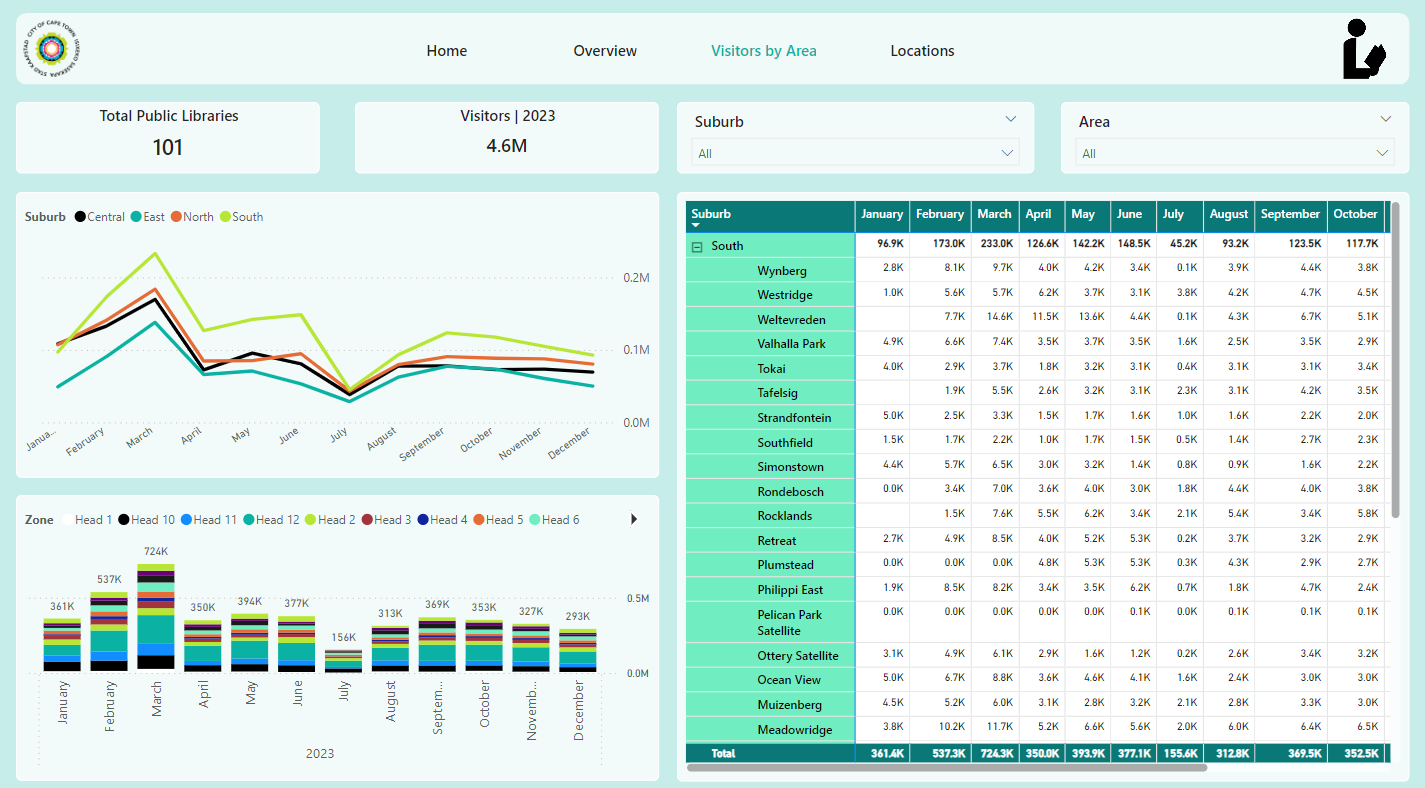

The page's visual inventory and layout, read from the dashboard file:
{"tool":"powerbi","page":{"name":"Visitors by Area","canvas":[1280,720],"ordinal":2},"visuals":[{"type":"group","id":"g1","title":"Group 1","box":[16,16,1248,64],"z":0},{"type":"shape","box":[16,16,1248,64],"z":0,"group":"g1"},{"type":"image","box":[16,16,64,64],"z":1000,"group":"g1"},{"type":"columnChart","fields":{"Y":["Sum(Table1.Value)"],"Category":["Table1.Attribute.Variation.Date Hierarchy.Year","Table1.Attribute.Variation.Date Hierarchy.Month"],"Series":["Table1.Zone"]},"box":[16,448,576,256],"z":1000},{"type":"image","box":[1200,16,48,64],"z":2000,"group":"g1"},{"type":"card","title":"Total Public Libraries","fields":{"Values":["CountNonNull(Library.Total)"]},"box":[16,96,272,64],"z":2000},{"type":"lineChart","fields":{"Y":["Sum(Table1.Value)"],"Category":["Table1.Attribute.Variation.Date Hierarchy.Year","Table1.Attribute.Variation.Date Hierarchy.Quarter","Table1.Attribute.Variation.Date Hierarchy.Month","Table1.Attribute.Variation.Date Hierarchy.Day"],"Series":["Table1.Suburb"]},"box":[16,176,576,256],"z":3000},{"type":"card","title":"Visitors | 2023","fields":{"Values":["Sum(Library.Total)"]},"box":[320,96,272,64],"z":4000},{"type":"pageNavigator","box":[336,32,560,32],"z":4001,"group":"g1"},{"type":"slicer","title":"Visitors | 2023","fields":{"Values":["Library.Suburb"]},"box":[608,96,320,64],"z":5000},{"type":"slicer","title":"Visitors | 2023","fields":{"Values":["Library.AREA"]},"box":[952,96,312,64],"z":6000},{"type":"pivotTable","fields":{"Rows":["Table1.Suburb","Table1.AREA"],"Columns":["Table1.Attribute.Variation.Date Hierarchy.Quarter","Table1.Attribute.Variation.Date Hierarchy.Month"],"Values":["Sum(Table1.Value)"]},"box":[608,176,656,528],"z":7000}]}

Visuals, with their boxes in screenshot pixels (x1, y1, x2, y2), scaled from the page's 1280x720 canvas onto the 1425x788 screenshot:
"Group 1" group: 18/18/1407/88
shape: 18/18/1407/88
image: 18/18/89/88
columnChart - Sum(Table1.Value) x Table1.Attribute.Variation.Date Hierarchy.Year: 18/490/659/770
image: 1336/18/1389/88
"Total Public Libraries" card: 18/105/321/175
lineChart - Sum(Table1.Value) x Table1.Attribute.Variation.Date Hierarchy.Year: 18/193/659/473
"Visitors | 2023" card: 356/105/659/175
pageNavigator: 374/35/998/70
"Visitors | 2023" slicer: 677/105/1033/175
"Visitors | 2023" slicer: 1060/105/1407/175
pivotTable - Table1.Suburb x Table1.AREA: 677/193/1407/770
